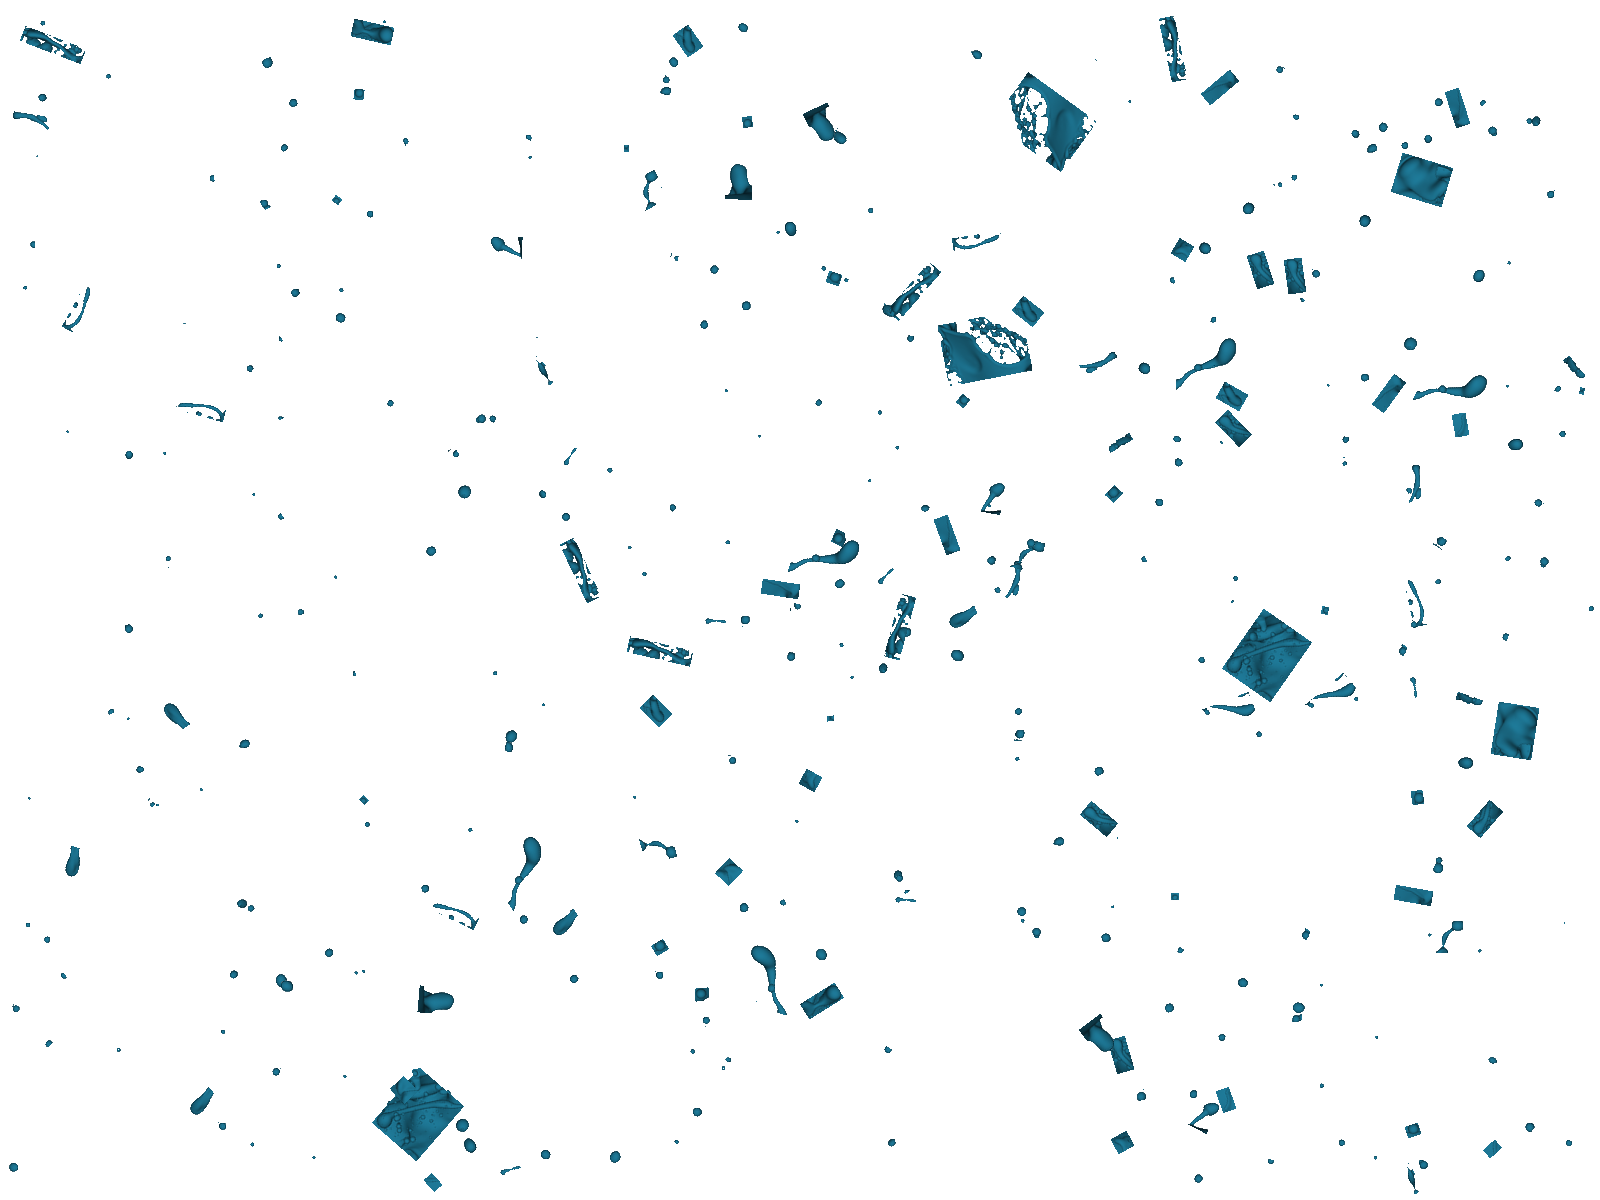Attached ligament: (370, 1066, 465, 1162), (1221, 608, 1313, 703), (886, 261, 942, 321), (559, 537, 602, 604), (19, 25, 87, 66), (883, 592, 917, 661), (626, 637, 694, 667), (1158, 15, 1188, 83), (799, 982, 845, 1020), (1183, 1092, 1223, 1134), (1214, 408, 1254, 447), (1078, 800, 1119, 838), (1466, 799, 1504, 839), (974, 476, 1007, 516), (350, 18, 396, 45), (1246, 250, 1275, 290), (639, 695, 673, 729), (1107, 1035, 1135, 1075), (1010, 295, 1044, 328), (671, 24, 704, 58), (1214, 381, 1249, 412), (488, 234, 523, 263), (1283, 257, 1306, 295), (1562, 355, 1587, 382), (1105, 432, 1134, 454), (1455, 691, 1484, 708)
Detached ligament: (483, 831, 568, 914), (1411, 352, 1494, 431), (786, 522, 866, 597), (736, 939, 808, 1017), (1175, 337, 1241, 395), (1296, 672, 1359, 730), (1191, 691, 1257, 736), (60, 282, 100, 334), (428, 895, 480, 932), (629, 169, 670, 212), (174, 395, 227, 424), (379, 1100, 420, 1138), (181, 1087, 220, 1124), (1009, 534, 1046, 575), (637, 829, 678, 866), (155, 695, 191, 735), (544, 908, 585, 944), (1075, 345, 1117, 379), (951, 229, 1004, 253), (1403, 575, 1427, 628), (941, 605, 981, 635), (59, 845, 89, 885), (1434, 920, 1464, 954), (528, 355, 558, 387), (11, 111, 55, 131), (1398, 1162, 1424, 1196), (1004, 560, 1022, 603), (1406, 464, 1422, 507), (1403, 674, 1426, 700), (496, 1158, 522, 1181), (703, 611, 727, 630), (893, 890, 917, 909), (876, 563, 894, 587), (561, 445, 578, 468)
bag: (991, 71, 1099, 173), (937, 309, 1033, 387), (1390, 153, 1454, 208), (1490, 701, 1540, 761), (1078, 1013, 1124, 1061), (803, 102, 844, 149), (417, 984, 459, 1016), (724, 161, 753, 200)
drop: (1283, 995, 1308, 1020), (1194, 236, 1218, 262), (1513, 725, 1540, 749), (1235, 198, 1261, 221), (1134, 355, 1157, 382), (602, 1148, 626, 1172), (1352, 211, 1377, 233), (1398, 332, 1422, 354), (1454, 753, 1479, 774), (271, 971, 294, 993), (454, 479, 476, 502), (328, 309, 349, 330), (888, 865, 910, 886), (1019, 533, 1041, 555), (1230, 974, 1252, 995), (532, 1146, 554, 1166), (1026, 921, 1046, 944), (1532, 552, 1553, 572), (829, 127, 850, 147), (452, 1113, 472, 1134), (461, 1134, 479, 1158), (1160, 998, 1180, 1018), (1104, 484, 1124, 504), (232, 894, 252, 914), (554, 508, 574, 528), (1249, 726, 1269, 746), (421, 543, 440, 565), (470, 408, 491, 427), (1506, 436, 1528, 454), (650, 938, 670, 957), (830, 528, 849, 548), (879, 301, 900, 320), (5, 1156, 23, 1177), (874, 659, 893, 678), (1527, 112, 1546, 131), (830, 574, 849, 592), (664, 53, 683, 72), (257, 55, 276, 74), (734, 897, 753, 916), (1374, 117, 1393, 136), (784, 217, 799, 239), (981, 550, 999, 568), (1403, 1122, 1422, 1139), (503, 726, 520, 745), (1430, 861, 1448, 880), (689, 1103, 707, 1122), (500, 737, 518, 756), (656, 82, 675, 100), (1484, 122, 1500, 142), (286, 282, 304, 300), (118, 620, 136, 638), (825, 270, 843, 287), (278, 978, 297, 995), (1049, 833, 1068, 850), (1169, 456, 1187, 473), (811, 943, 828, 961), (734, 19, 751, 37), (1519, 1118, 1537, 1134), (161, 551, 178, 568), (236, 736, 253, 753), (969, 45, 985, 63), (1356, 368, 1372, 384), (1561, 1138, 1577, 1155), (290, 603, 306, 619), (239, 900, 256, 916), (698, 1012, 714, 1029), (564, 972, 581, 988), (1347, 125, 1363, 141), (1230, 571, 1246, 587), (916, 499, 932, 516), (1432, 534, 1449, 551), (38, 1034, 54, 1050), (1471, 268, 1487, 286), (950, 648, 968, 663), (1417, 1155, 1431, 1174), (782, 648, 797, 664), (1410, 789, 1425, 805), (694, 987, 711, 1002), (695, 318, 711, 334), (414, 881, 431, 896), (706, 263, 722, 279), (1090, 763, 1106, 778), (226, 967, 241, 983), (602, 464, 617, 480), (955, 393, 971, 408), (1529, 494, 1545, 511), (1099, 930, 1114, 947), (879, 1045, 894, 1061), (1427, 95, 1445, 108), (1191, 1172, 1206, 1187), (34, 89, 49, 105), (359, 816, 374, 831), (335, 1070, 350, 1085), (326, 571, 341, 586), (1272, 62, 1288, 77), (1364, 141, 1380, 156), (1495, 629, 1511, 644), (517, 913, 530, 929), (1521, 112, 1534, 129), (900, 625, 916, 639), (1398, 139, 1414, 153), (892, 872, 907, 886), (35, 16, 49, 32), (627, 787, 641, 802), (740, 299, 755, 313), (447, 446, 461, 461), (1014, 905, 1031, 918), (535, 489, 549, 503), (273, 512, 287, 526), (1431, 574, 1445, 587), (1500, 551, 1514, 565), (348, 968, 362, 982), (659, 73, 673, 87), (9, 1002, 23, 1016), (398, 135, 412, 149), (440, 1087, 454, 1100), (144, 797, 157, 811), (1015, 915, 1031, 928), (892, 440, 905, 455), (1299, 926, 1311, 942), (1153, 498, 1167, 511), (1186, 1088, 1198, 1102), (243, 361, 256, 374), (285, 97, 299, 110), (813, 397, 826, 410), (1422, 131, 1435, 145), (123, 447, 136, 461), (1012, 706, 1026, 718), (276, 142, 290, 155), (741, 115, 753, 129), (268, 1065, 282, 1078), (1337, 455, 1351, 468), (260, 197, 272, 211), (1396, 643, 1409, 657), (1013, 729, 1026, 742), (776, 897, 789, 911), (1172, 944, 1186, 957), (1290, 108, 1301, 124), (1432, 853, 1445, 866), (666, 500, 679, 513), (727, 754, 740, 766), (740, 615, 752, 628), (135, 764, 147, 776), (722, 1053, 734, 1065), (353, 88, 365, 101), (21, 794, 34, 807), (1123, 95, 1135, 107), (721, 387, 733, 400), (668, 252, 680, 265), (863, 474, 876, 487), (321, 947, 333, 961), (1194, 650, 1206, 664), (1216, 1032, 1230, 1044), (1584, 601, 1597, 613), (1170, 432, 1184, 444), (217, 1121, 228, 1134), (38, 935, 50, 947), (1407, 619, 1419, 632), (1557, 429, 1569, 441), (364, 208, 375, 221), (20, 919, 33, 930), (751, 431, 763, 442), (465, 824, 477, 836), (842, 274, 853, 286), (1503, 257, 1516, 268), (847, 671, 858, 683), (1265, 686, 1277, 697), (670, 1136, 682, 1148), (1543, 189, 1556, 200), (654, 971, 665, 983), (1272, 179, 1284, 192), (358, 794, 370, 805), (1317, 976, 1327, 989), (102, 71, 113, 82), (1339, 435, 1351, 446), (486, 412, 498, 424), (1135, 1089, 1146, 1100), (884, 1137, 896, 1148), (60, 429, 72, 440), (1371, 1031, 1382, 1042), (357, 966, 368, 977), (248, 492, 260, 503), (307, 1152, 319, 1163), (1214, 439, 1226, 450), (835, 639, 847, 650), (217, 1026, 228, 1037), (331, 194, 343, 205), (1369, 1152, 1381, 1163), (991, 586, 1003, 597), (1477, 97, 1488, 108), (205, 174, 215, 187), (26, 239, 37, 252), (1424, 932, 1434, 944), (375, 16, 388, 26), (1311, 268, 1322, 281), (790, 603, 803, 613), (105, 706, 117, 716), (1206, 315, 1220, 324), (818, 263, 829, 274), (687, 1047, 698, 1058), (254, 610, 265, 621), (386, 398, 397, 408), (335, 285, 346, 295), (1351, 695, 1362, 705), (159, 447, 170, 458), (1409, 337, 1420, 347), (772, 228, 784, 238), (525, 153, 535, 164), (535, 700, 547, 710), (981, 500, 993, 511), (1317, 1080, 1327, 1092), (864, 205, 874, 217), (1207, 359, 1217, 371), (273, 260, 283, 271), (1291, 1013, 1303, 1024), (1288, 173, 1298, 184), (58, 971, 68, 982), (1551, 384, 1563, 393), (524, 132, 533, 145), (1338, 1138, 1348, 1148), (113, 1044, 123, 1054), (247, 1139, 257, 1150), (792, 816, 803, 826), (1475, 945, 1485, 955), (1089, 55, 1099, 66), (1225, 596, 1235, 606), (874, 407, 884, 417), (411, 1068, 421, 1078), (273, 334, 283, 344), (902, 885, 912, 895), (1403, 487, 1414, 497), (19, 284, 30, 292), (1488, 1055, 1499, 1064), (905, 335, 915, 344), (719, 1064, 728, 1074), (1107, 904, 1116, 914), (639, 570, 649, 579), (1111, 834, 1120, 845), (1558, 916, 1567, 926), (1170, 892, 1180, 901), (276, 412, 286, 421), (1296, 296, 1306, 305), (1139, 555, 1148, 565), (1265, 1158, 1276, 1166), (1168, 275, 1175, 286), (154, 803, 163, 812), (125, 716, 134, 725), (1322, 382, 1330, 391), (195, 787, 204, 795), (1012, 755, 1022, 763), (530, 335, 540, 343), (349, 668, 357, 678), (625, 545, 634, 552), (826, 715, 835, 722), (1322, 606, 1329, 615), (490, 671, 500, 677), (180, 321, 188, 329), (1503, 384, 1511, 392), (723, 539, 732, 546), (624, 144, 630, 153), (34, 151, 42, 158), (1579, 387, 1585, 395)
lobe: (1199, 69, 1240, 106), (1371, 373, 1407, 413), (934, 514, 961, 556), (1444, 87, 1471, 129), (1393, 884, 1434, 908), (714, 857, 745, 887), (389, 1075, 420, 1105), (760, 579, 801, 600), (1170, 237, 1196, 263), (797, 768, 823, 793), (1110, 1129, 1135, 1155), (1214, 1087, 1237, 1114), (1451, 412, 1470, 437), (423, 1172, 443, 1192), (1482, 1139, 1503, 1158)
